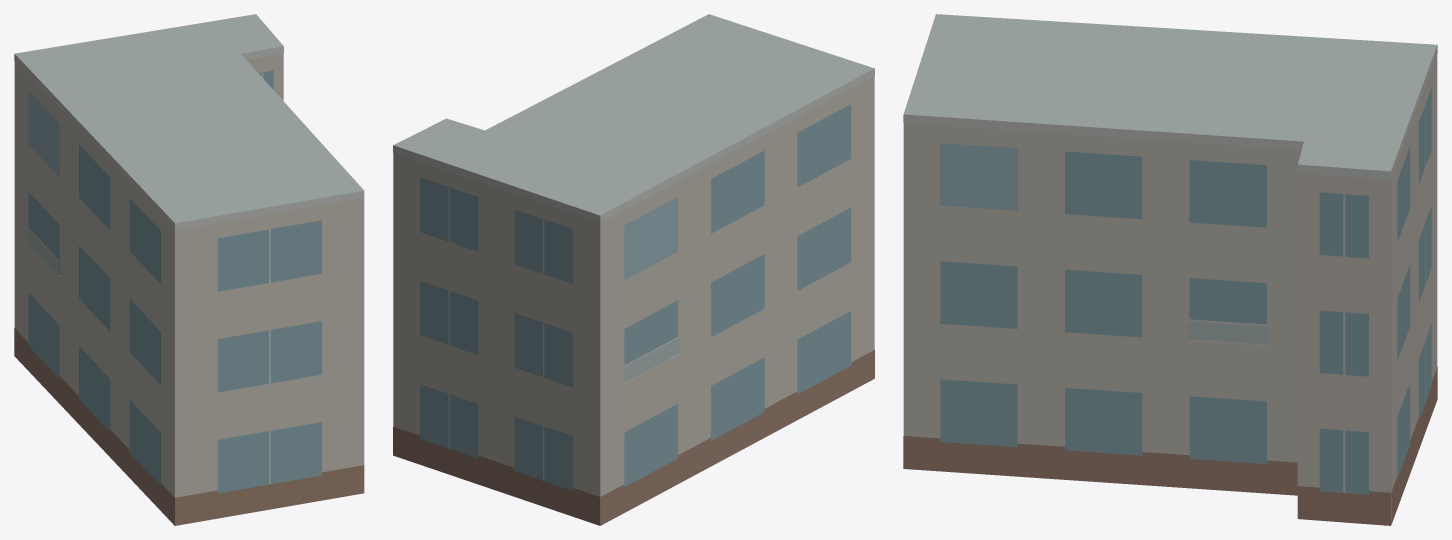
Rendered from survey-upis-32797004.glb.
3 renders of one model, left to right at view 1: azimuth 30°, elevation 25°; view 2: azimuth 150°, elevation 25°; view 3: azimuth 270°, elevation 25°, orthographic. The views are drawn at different scales.
Visible parts, largest first — view 1: survey-upis-32797004.tmp; view 2: survey-upis-32797004.tmp; view 3: survey-upis-32797004.tmp.
Boxes of the visible parts, box(x1,y1,x2,y2) form: survey-upis-32797004.tmp: box(14, 14, 364, 525); survey-upis-32797004.tmp: box(393, 14, 874, 525); survey-upis-32797004.tmp: box(903, 14, 1437, 525).
Size of the model in its own units: 9.73 by 10.2 by 13.94.
